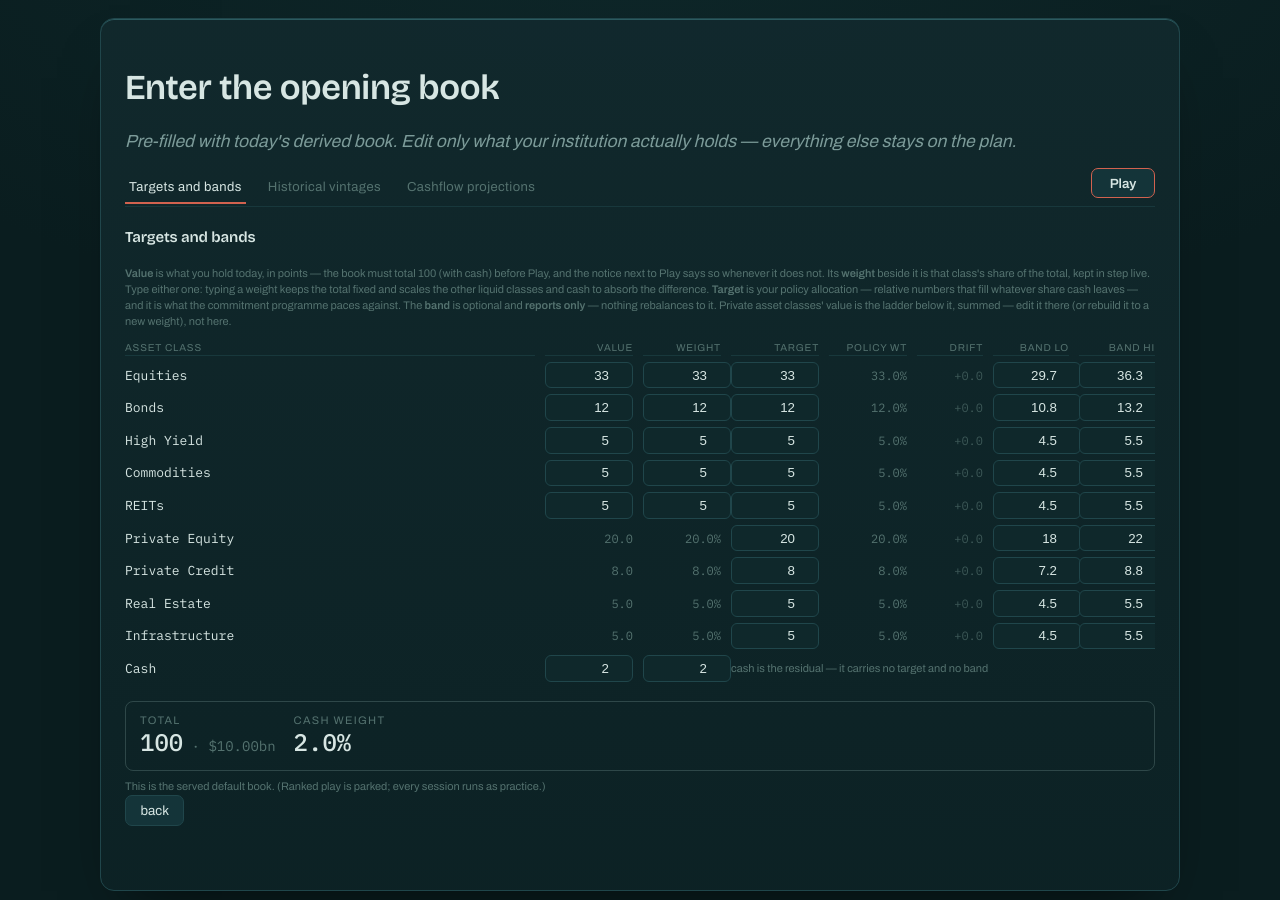
Scenario: BookEntry — policy targets and reporting bands › the infrastructure ladder carries fifteen rungs — one per year of pm_infra's contractual life (ER-12)
Click the tab "Historical vintages". click: (324, 188)
box: x1=264 y1=172 x2=385 y2=204
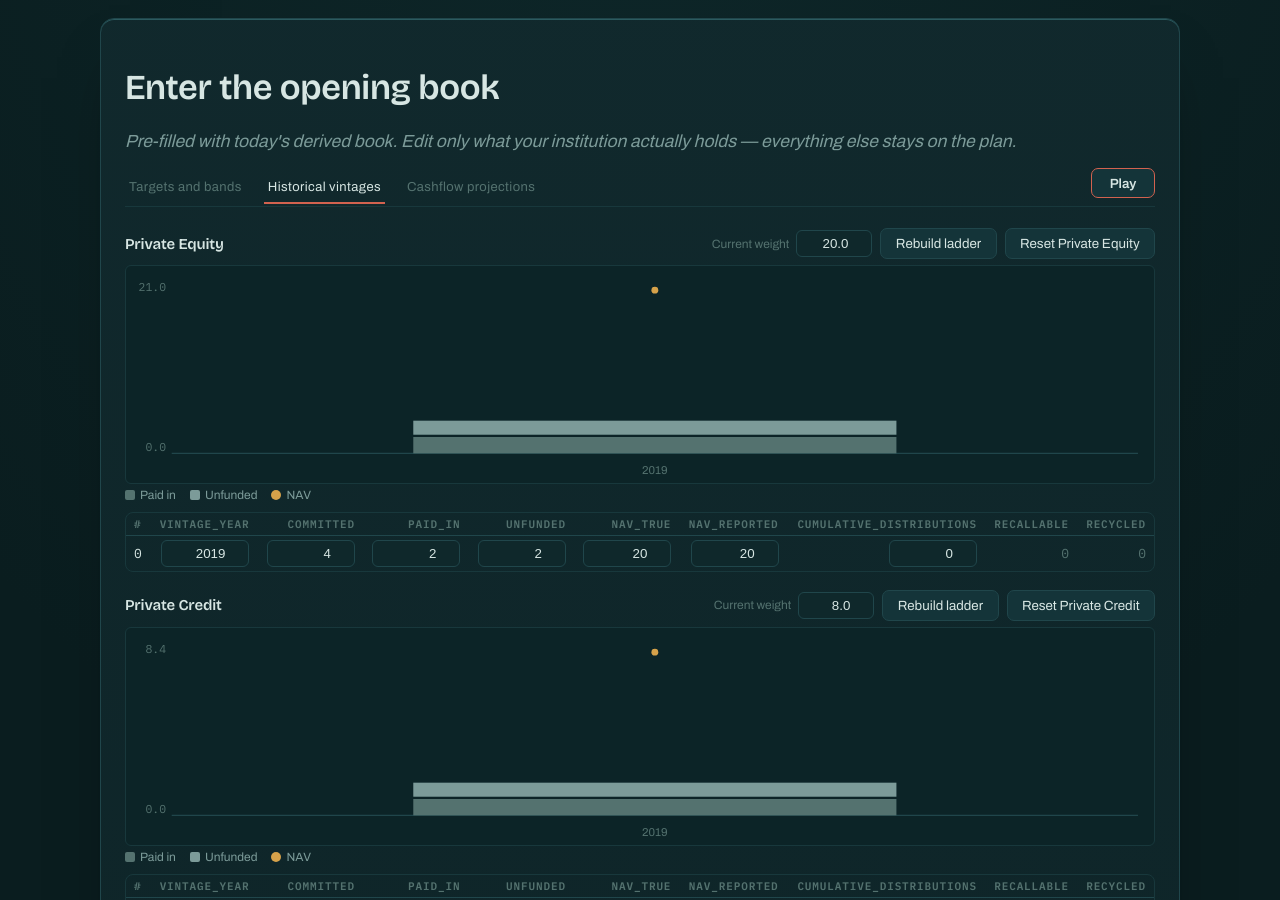
Expected: the number of rows with test id "rung-pe" is 1, x1=126 y1=536 x2=1154 y2=571
